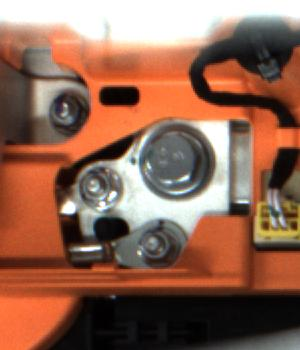nut_b: (134, 114, 219, 200)
